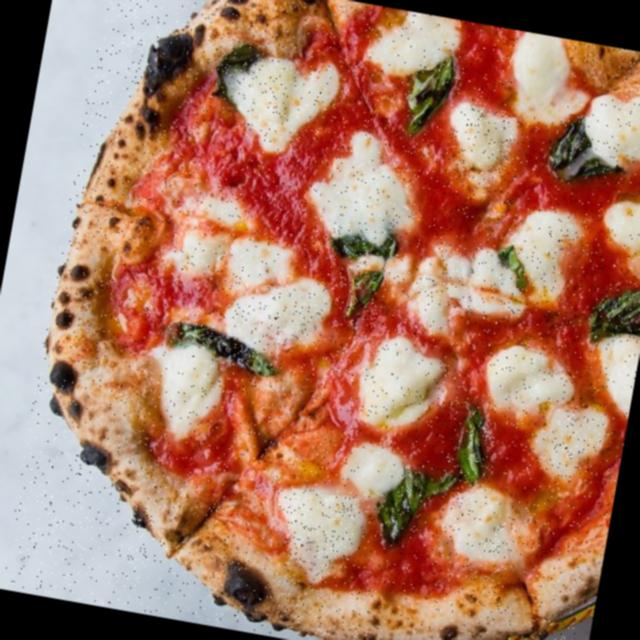Basil: (163, 316, 287, 382), (542, 112, 632, 188), (372, 458, 434, 551), (400, 50, 459, 142), (443, 401, 500, 486), (207, 36, 262, 110), (587, 278, 640, 347), (336, 266, 390, 330), (326, 222, 401, 266), (492, 242, 538, 290)
Cheese: (417, 246, 519, 322), (323, 158, 417, 235), (180, 228, 296, 286), (280, 488, 360, 572), (246, 63, 328, 144), (228, 280, 328, 342), (506, 30, 574, 121), (444, 104, 518, 184), (374, 6, 451, 80), (441, 492, 520, 560), (490, 350, 566, 416), (362, 350, 432, 418), (516, 210, 574, 290), (155, 353, 218, 424), (538, 407, 604, 474), (587, 94, 640, 161), (601, 191, 640, 271), (345, 448, 399, 497)
Pizza: (0, 0, 640, 640)
